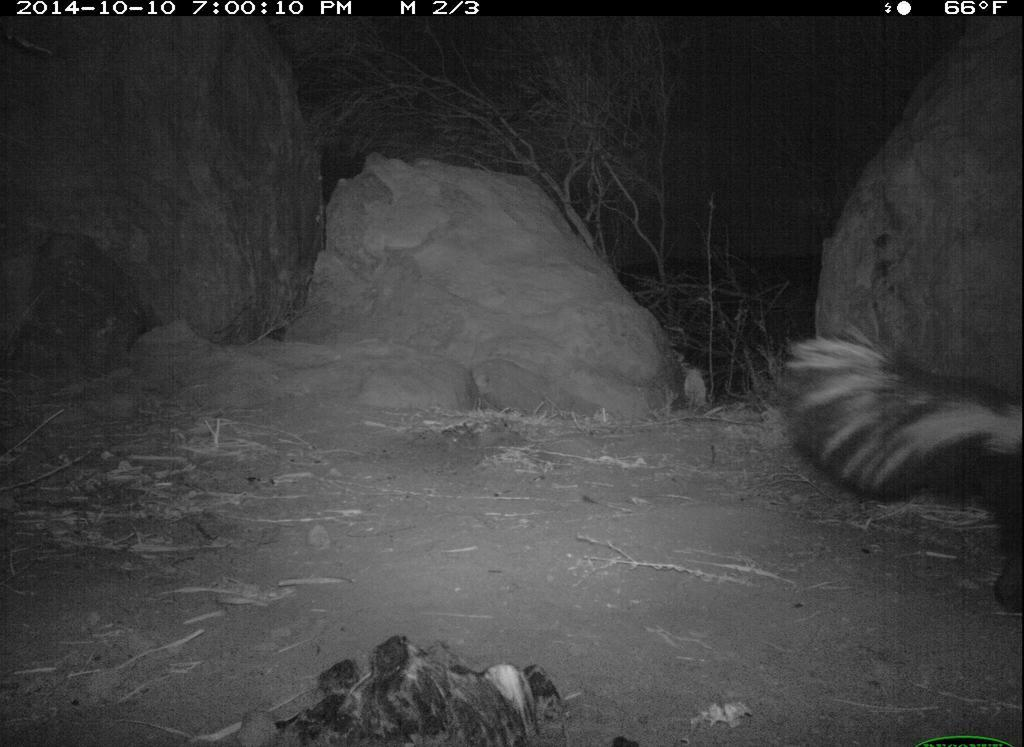skunk: (781, 324, 1023, 601)
